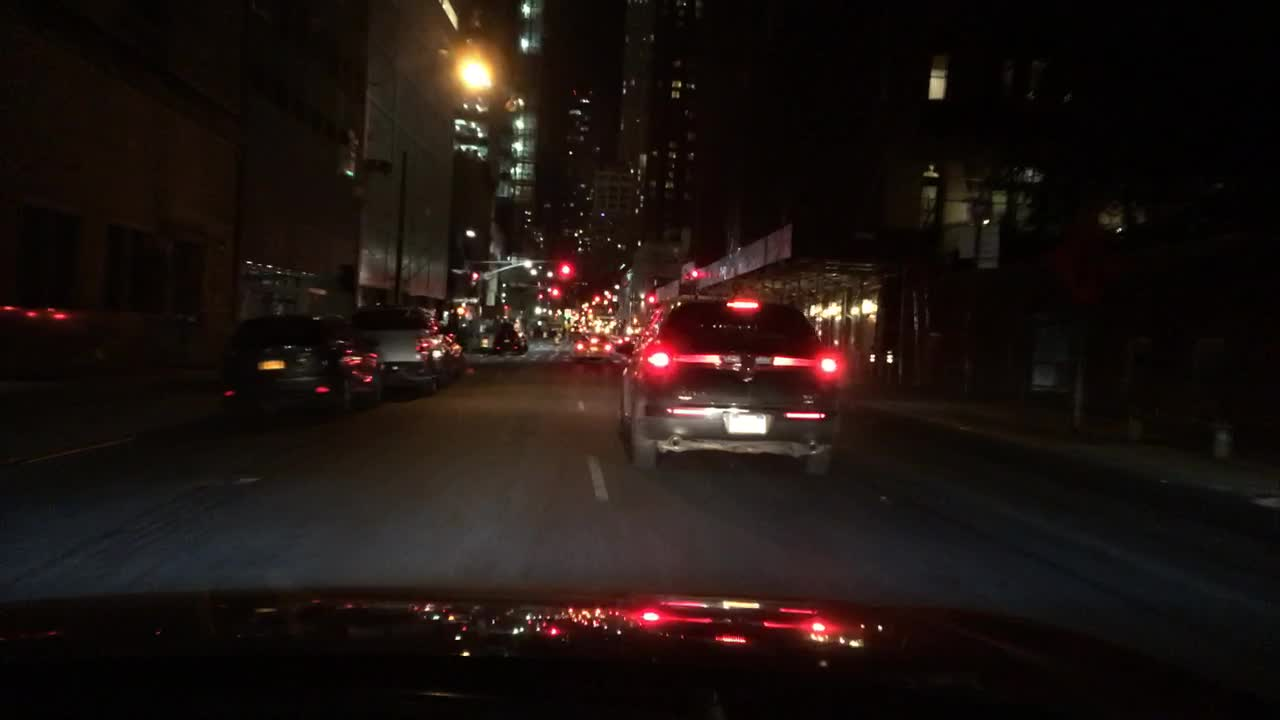car: (619, 293, 846, 475), (218, 313, 388, 417), (353, 305, 468, 393), (489, 321, 528, 355), (570, 333, 609, 358), (612, 333, 641, 349)
traffic light: (555, 260, 575, 278), (547, 286, 561, 298), (644, 293, 656, 306), (469, 270, 479, 284), (592, 293, 604, 301)
traffic sign: (1044, 218, 1134, 301), (978, 222, 998, 266)
